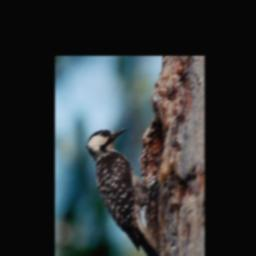Woodpecker: (78, 124, 165, 256)
